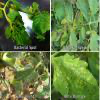Tomato Early blight leaf: (6, 56, 41, 94)
Tomato leaf bacterial spot: (3, 10, 32, 49), (31, 8, 50, 45), (86, 28, 99, 51), (53, 3, 68, 22), (62, 3, 74, 25), (68, 26, 77, 51), (60, 27, 69, 50), (52, 29, 62, 44), (78, 11, 84, 25)
Tomato two spotted spider mites leaf: (52, 56, 98, 97)
